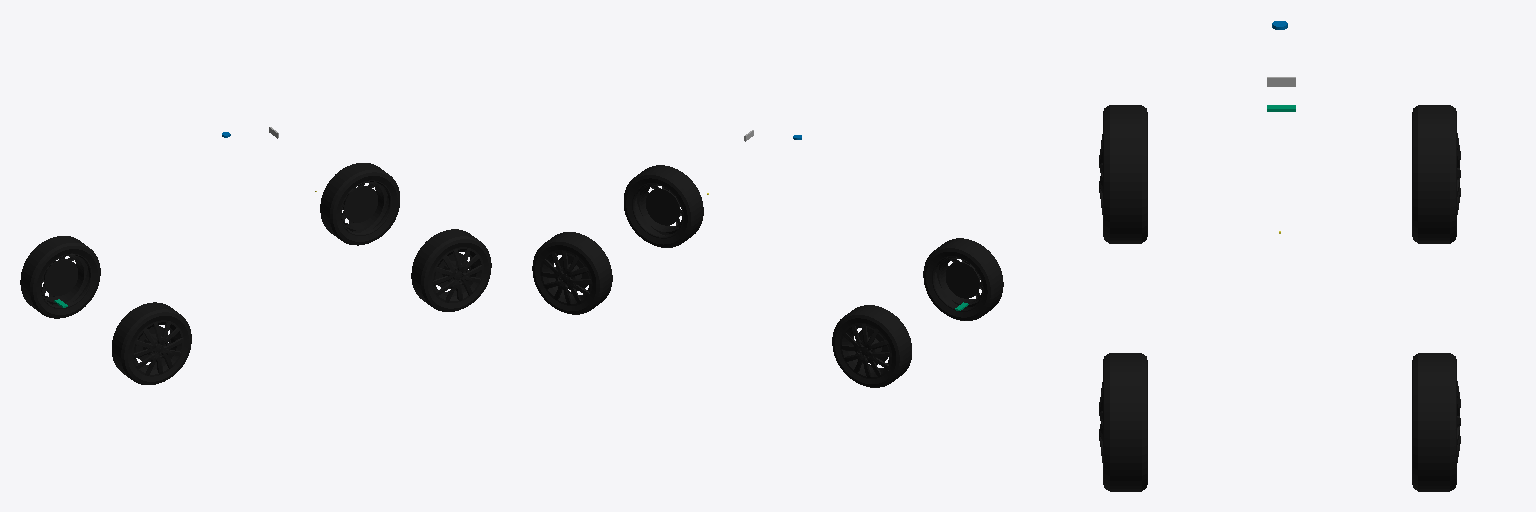
The robot description file, URDF, robot "car":
<?xml version="1.0"?>
<robot name="car">

<link name="map">
    <visual>
      <geometry>
        <box size =".001 .001 .001"/>
      </geometry>
      <origin rpy="0 0 0" xyz="0 0 0"/>
    </visual>
  </link>


  <joint name="map_to_camera_init" type="fixed">
    <parent link="map"/>
    <child link="camera_init"/>
    <origin xyz="0 0 0" rpy="0 0 0"/>
  </joint>

  <link name="camera_init">
    <visual>
      <geometry>
        <cylinder length ="0.001" radius="0.001"/>
      </geometry>
      <origin rpy="0 0 0" xyz="0 0 0"/>
    </visual>
  </link>


<joint name="map_to_aft" type="fixed">
    <parent link="map"/>
    <child link="aft_mapped"/>
    <origin xyz="0 0 0"  rpy="0 0 0"/>
  </joint>


  <link name="aft_mapped">
    <visual>
      <geometry>
        <box size =".001 .001 .001"/>
      </geometry>
      <origin rpy="0 0 0" xyz="0 0 0"/>
    </visual>
  </link>

<joint name="aft_to_base_link" type="fixed">
    <parent link="aft_mapped"/>
    <child link="base_link"/>
    <origin xyz="0 0 0"  rpy="0 0 0"/>
  </joint>

  <link name="base_link">
    <visual>
      <geometry>
        <box size =".001 .001 .001"/>
      </geometry>
      <origin rpy="0 0 0" xyz="0 0 0"/>
    </visual>
  </link>

  <joint name="base_link_to_body" type="fixed">
    <parent link="base_link"/>
    <child link="body"/>
    <origin rpy="0 0 0" xyz="0 0 0.5"/>
  </joint>

  <link name="body">
    <visual>
      <geometry>
        <mesh filename="package://carro/urdf/mesh/chassi.dae"/>
      </geometry>
      <origin rpy="0 0 3.1416" xyz="0 0 0"/>
    </visual>
  </link>

  <joint name="body_to_right_rear_wheel" type="fixed">
    <parent link="body"/>
    <child link="right_rear_wheel"/>
    <origin xyz="-1.6 -0.8 -0.65"/>
  </joint>

  <link name="right_rear_wheel">
    <visual>
      <geometry>
        <mesh filename="package://carro/urdf/mesh/roda.dae"/>
      </geometry>
      <origin rpy="0 0 -1.57" xyz="0 0 0"/>
    </visual>
  </link>

  <joint name="body_to_left_rear_wheel" type="fixed">
    <parent link="body"/>
    <child link="left_rear_wheel"/>
    <origin xyz="-1.6 0.8 -0.65"/>
    <axis   xyz="0 1 0"/>
  </joint>

  <link name="left_rear_wheel">
    <visual>
      <geometry>
        <mesh filename="package://carro/urdf/mesh/roda.dae"/>
      </geometry>
      <origin rpy="0 0 1.57" xyz="0 0 0"/>
    </visual>
  </link>

  <joint name="body_to_right_front_steering" type="fixed">
    <parent link="body"/>
    <child link="right_front_steering"/>
    <origin xyz="1.4 -0.8 -0.65"/>
  </joint>

  <link name="right_front_steering">
    <visual>
      <geometry>
        <box size =".001 .001 .001"/>
      </geometry>
      <origin rpy="0 0 0" xyz="0 0 0"/>
    </visual>
  </link>

  <joint name="right_front_steering_to_right_front_wheel" type="revolute">
    <parent link="right_front_steering"/>
    <child link="right_front_wheel"/>
    <origin xyz="0.0 0.0 0.0"/>
    <axis   xyz="0 0 1"/>
    <limit lower="-0.87" upper="0.87" effort="1000" velocity="1000"/>

  </joint>

  <link name="right_front_wheel">
    <visual>
      <geometry>
        <mesh filename="package://carro/urdf/mesh/roda.dae"/>
      </geometry>
      <origin rpy="0 0 -1.57" xyz="0 0 0"/>
    </visual>
  </link>

  <joint name="body_to_left_front_steering" type="fixed">
    <parent link="body"/>
    <child link="left_front_steering"/>
    <origin xyz="1.4 0.8 -0.65"/>
  </joint>

  <link name="left_front_steering">
    <visual>
      <geometry>
        <box size =".001 .001 .001"/>
      </geometry>
      <origin rpy="0 0 0" xyz="0 0 0"/>
    </visual>
  </link>

  <joint name="left_front_steering_to_left_front_wheel" type="revolute">
    <parent link="left_front_steering"/>
    <child link="left_front_wheel"/>
    <origin xyz="0.0 0.0 0.0"/>
    <axis   xyz="0 0 1"/>
        <limit lower="-0.87" upper="0.87" effort="1000" velocity="1000"/>

  </joint>

  <link name="left_front_wheel">
    <visual>
      <geometry>
        <mesh filename="package://carro/urdf/mesh/roda.dae"/>
      </geometry>
      <origin rpy="0 0 1.57" xyz="0 0 0"/>
    </visual>
  </link>


  <joint name="body_to_imu" type="fixed">
    <parent link="body"/>
    <child link="imu"/>
    <origin xyz="0.5 0 0"/>
  </joint>

  <link name="imu">
    <visual>
      <geometry>
        <box size =".01 .01 .01"/>
      </geometry>
      <origin rpy="0 0 0" xyz="0 0 0"/>
    </visual>
  </link>

  <joint name="body_to_lidar" type="fixed">
    <parent link="body"/>
    <child link="lidar"/>
    <origin xyz=" -0.4 0 0.75" rpy="0 0 0"/>
  </joint>

  <link name="lidar">
    <visual>
      <geometry>
        <cylinder length ="0.020" radius="0.039"/>
      </geometry>
      <origin rpy="0 0 0" xyz="0 0 0"/>
    </visual>
  </link>


    <joint name="lidar_to_camera" type="fixed">
    <parent link="lidar"/>
    <child link="camera"/>
    <origin xyz="0 0 0" rpy="0 0 0"/>
  </joint>

  <link name="camera">
    <visual>
      <geometry>
        <cylinder length ="0.001" radius="0.001"/>
      </geometry>
      <origin rpy="0 0 0" xyz="0 0 0"/>
    </visual>
  </link>

   <joint name="lidar_to_velodyne" type="fixed">
    <parent link="lidar"/>
    <child link="velodyne"/>
    <origin xyz="0 0 0" rpy="0 0 0"/>
  </joint>

  <link name="velodyne">
    <visual>
      <geometry>
        <cylinder length ="0.001" radius="0.001"/>
      </geometry>
      <origin rpy="0 0 0" xyz="0 0 0"/>
    </visual>
  </link>

  <joint name="body_to_realsense" type="fixed">
    <parent link="body"/>
    <child link="realsense"/>
    <origin xyz="0.1 0 0.7" rpy="-1.57079 0 -1.57079"/>
  </joint>

  <link name="realsense">
    <visual>
      <geometry>
        <box size ="0.15 0.05 0.015"/>
      </geometry>
      <origin rpy="0 0 0" xyz="-0.0075 0.044 -0.016"/>
    </visual>
  </link>

  <joint name="realsense_to_camera_depth_optical_frame" type="fixed">
    <parent link="realsense"/>
    <child link="camera_depth_optical_frame"/>
    <origin xyz="0.15 0 0" rpy="0 0 0"/>
  </joint>


  <link name="camera_depth_optical_frame">
    <visual>
      <geometry>
        <box size =".001 .001 .001"/>
      </geometry>
      <origin rpy="0 0 0" xyz="0 0 0"/>
    </visual>
  </link>

    <joint name="body_to_GPS" type="fixed">
    <parent link="body"/>
    <child link="gps_link"/>
    <origin rpy="0 0 0" xyz="0 0 0.1"/>
  </joint>

  <link name="gps_link">
    <visual>
      <geometry>
          <box size =".001 .001 .001"/>
      </geometry>
      <origin rpy="0 0 0" xyz="0 0 0"/>
    </visual>
  </link>

<joint name="body_to_ground_cam" type="fixed">
    <parent link="body"/>
    <child link="ground_cam"/>
    <origin xyz="-2 0 -0.5" rpy="-3.1415 0 -1.57079"/>
  </joint>

  <link name="ground_cam">
    <visual>
      <geometry>
        <box size ="0.15 0.05 0.015"/>
      </geometry>
      <origin rpy="0 0 0" xyz="-0.0075 0.044 -0.016"/>
    </visual>
  </link>

</robot>

--- Render facts (derived) ---
Views: 3 orthographic renders of the robot side by side, from view 1: azimuth 30°, elevation 25°; view 2: azimuth 150°, elevation 25°; view 3: azimuth 270°, elevation 25°.
Model car with 19 links and 18 joints (2 revolute, 16 fixed), rooted at map, posed all joints at 0.
Links seen in each view (by area): view 1: left_front_wheel, right_front_wheel, right_rear_wheel, left_rear_wheel; view 2: right_front_wheel, left_rear_wheel, left_front_wheel, right_rear_wheel; view 3: left_rear_wheel, left_front_wheel, right_rear_wheel, right_front_wheel.
Boxes of the visible links, x1,y1,x2,y2 form: left_front_wheel: (320, 163, 399, 245); right_front_wheel: (411, 229, 491, 311); right_rear_wheel: (112, 302, 191, 384); left_rear_wheel: (20, 236, 100, 318); right_front_wheel: (624, 165, 703, 247); left_rear_wheel: (832, 305, 911, 387); left_front_wheel: (532, 232, 612, 314); right_rear_wheel: (923, 238, 1003, 320); left_rear_wheel: (1412, 105, 1460, 243); left_front_wheel: (1412, 353, 1460, 491); right_rear_wheel: (1099, 105, 1147, 243); right_front_wheel: (1099, 353, 1147, 491).
Size in the robot's own frame: 3.82 by 1.85 by 1.76 metres.
Meshes: 2 distinct files referenced, 4 mesh visuals loaded (1 Collada DAE); not drawn: 1 (reference not matched to a file when rendering).